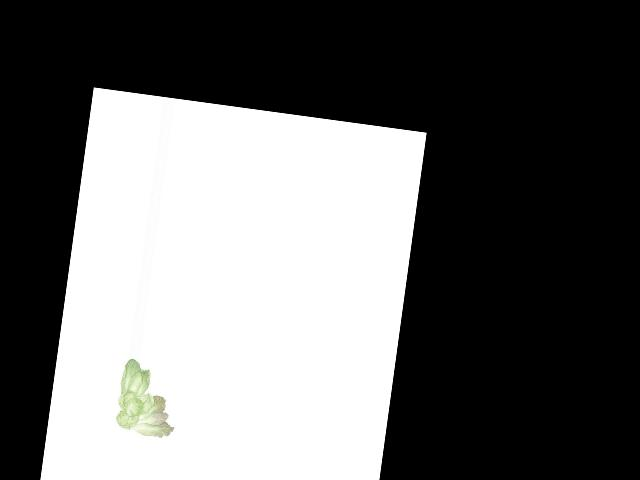lettuce: (110, 356, 186, 441)
